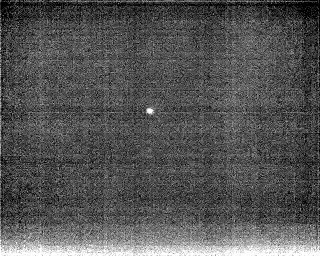AIRPLANE: (144, 106, 155, 116)
